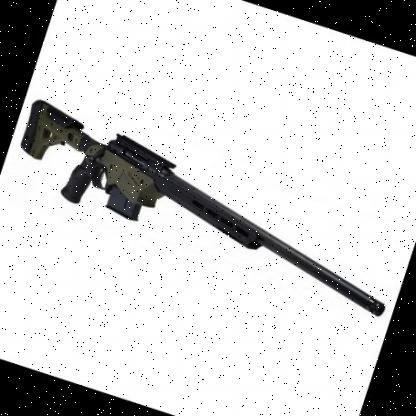rifle: (0, 90, 416, 332)
